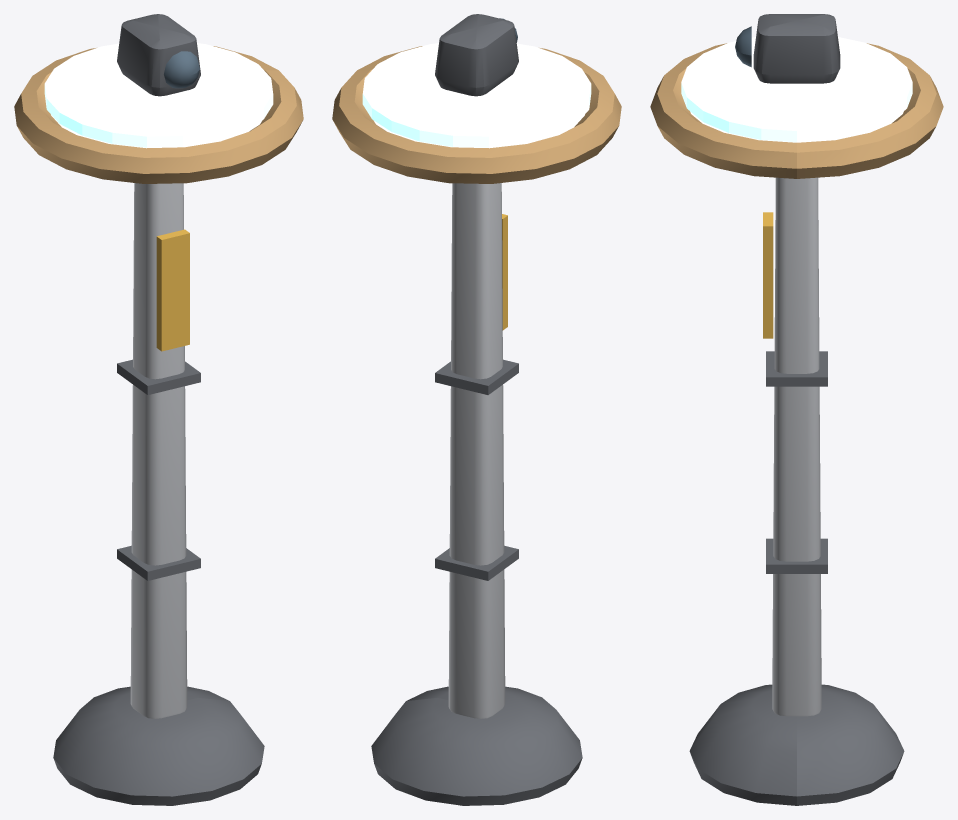
File: hover-transit-and-antigrav-fleet-hover-lane-beacon-b01c8bd3__17107.glb
3 renders of one model, left to right at view 1: azimuth 30°, elevation 25°; view 2: azimuth 150°, elevation 25°; view 3: azimuth 270°, elevation 25°, orthographic.
Parts seen in each view (by area): view 1: hover-lane-beacon; view 2: hover-lane-beacon; view 3: hover-lane-beacon.
Boxes of the visible parts, left/top/right/bottom form: hover-lane-beacon: left=14, top=14, right=303, bottom=805; hover-lane-beacon: left=332, top=14, right=621, bottom=805; hover-lane-beacon: left=650, top=14, right=943, bottom=805.
Bounding box in the file's own units: 1.42 × 3.96 × 1.42.
